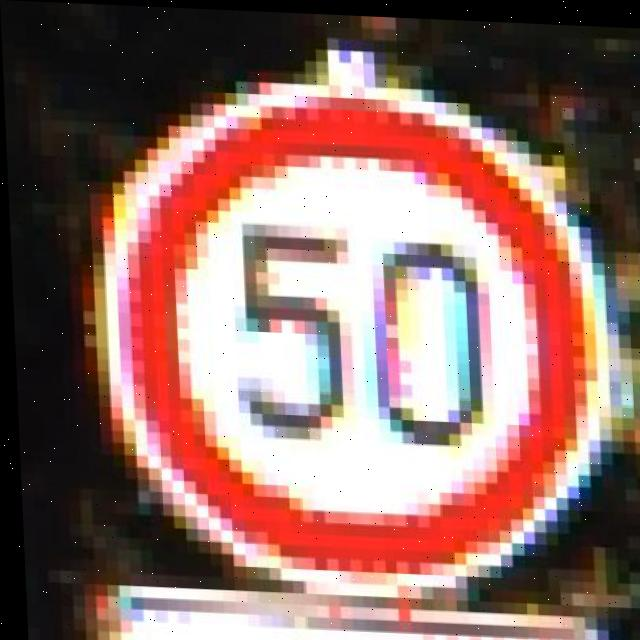Speed limit 50: (65, 37, 612, 616)
